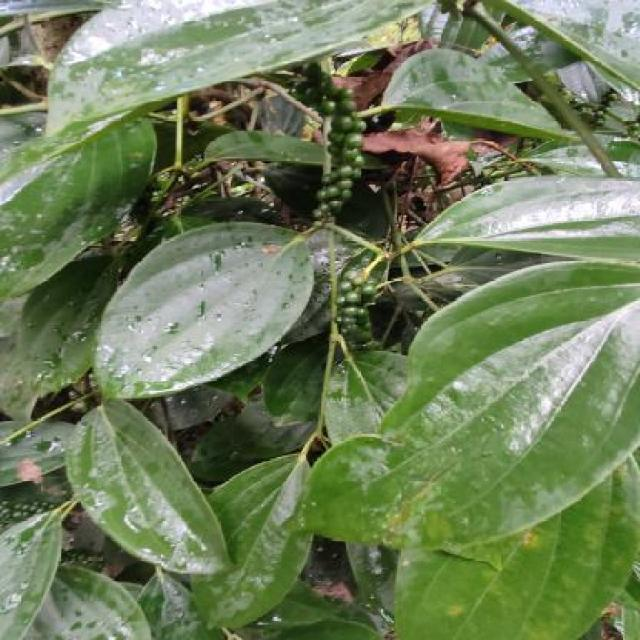UNRIPE: (317, 88, 368, 226), (333, 272, 382, 354), (592, 88, 620, 125)
